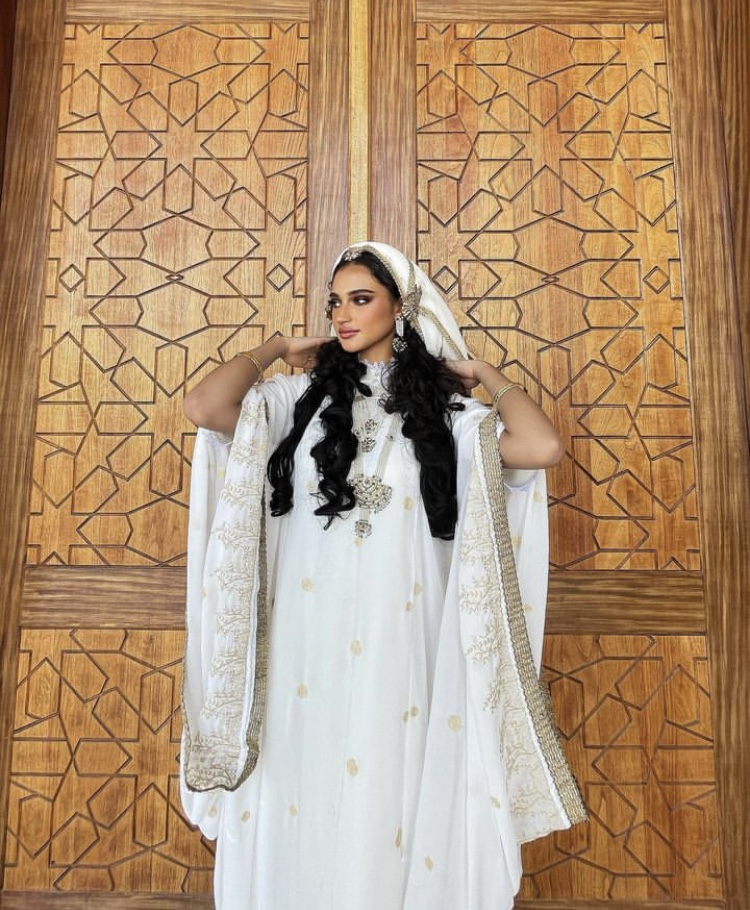Saudi_Founding_Day: (175, 238, 593, 910)
